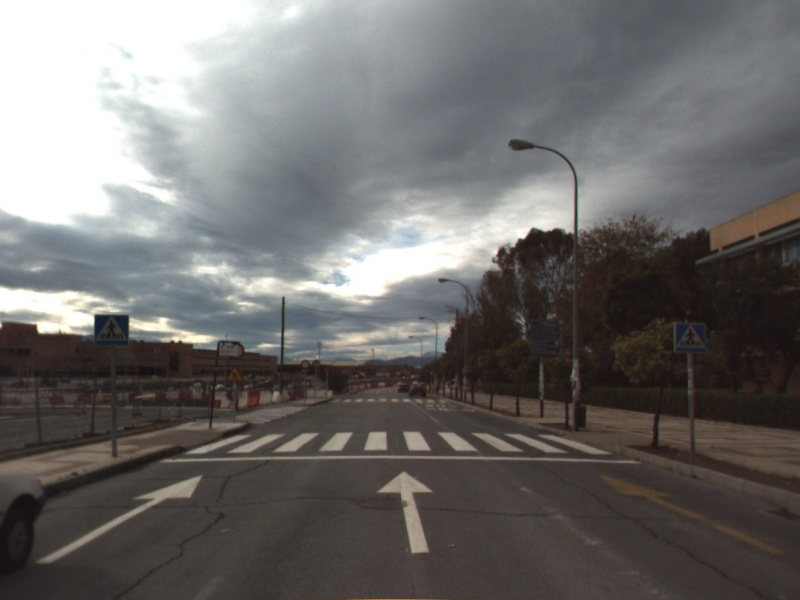STRAIGHT: (32, 473, 205, 566), (598, 472, 787, 556), (374, 468, 436, 555)
